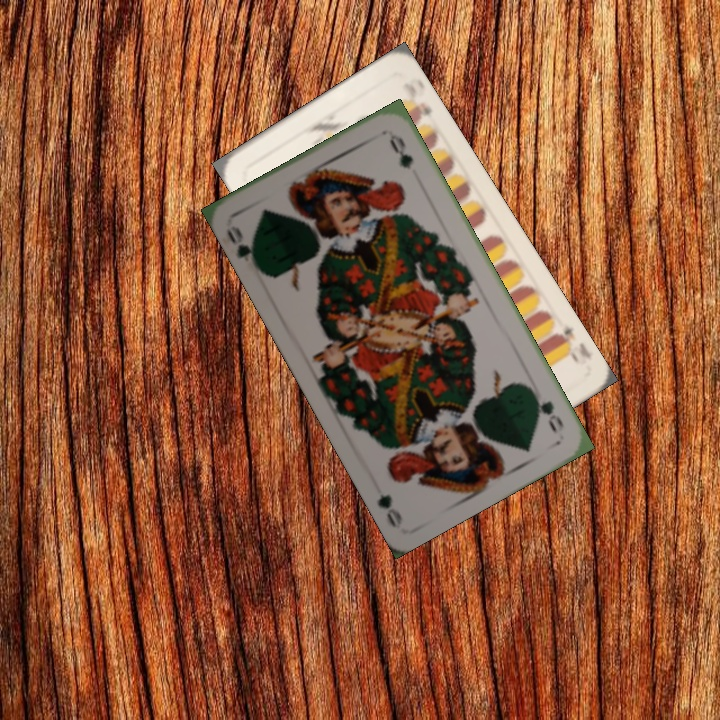E10: (548, 316, 592, 367)
GO: (222, 221, 263, 273), (527, 385, 567, 436)
